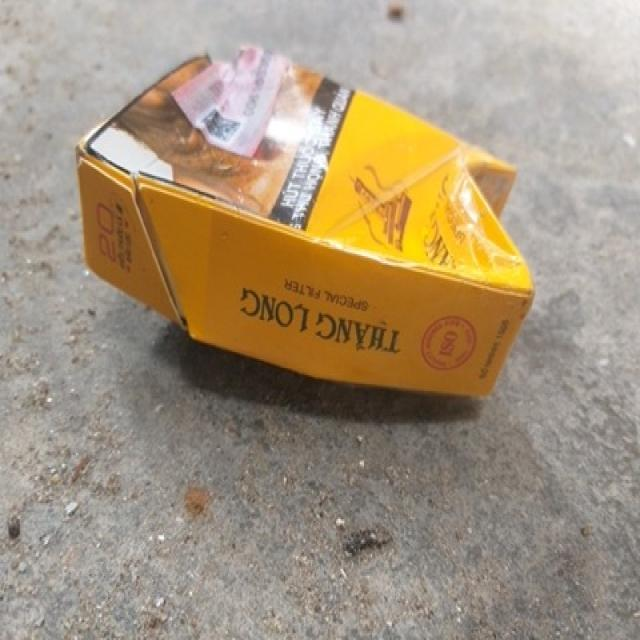PaperCardboard: (54, 48, 534, 409)
